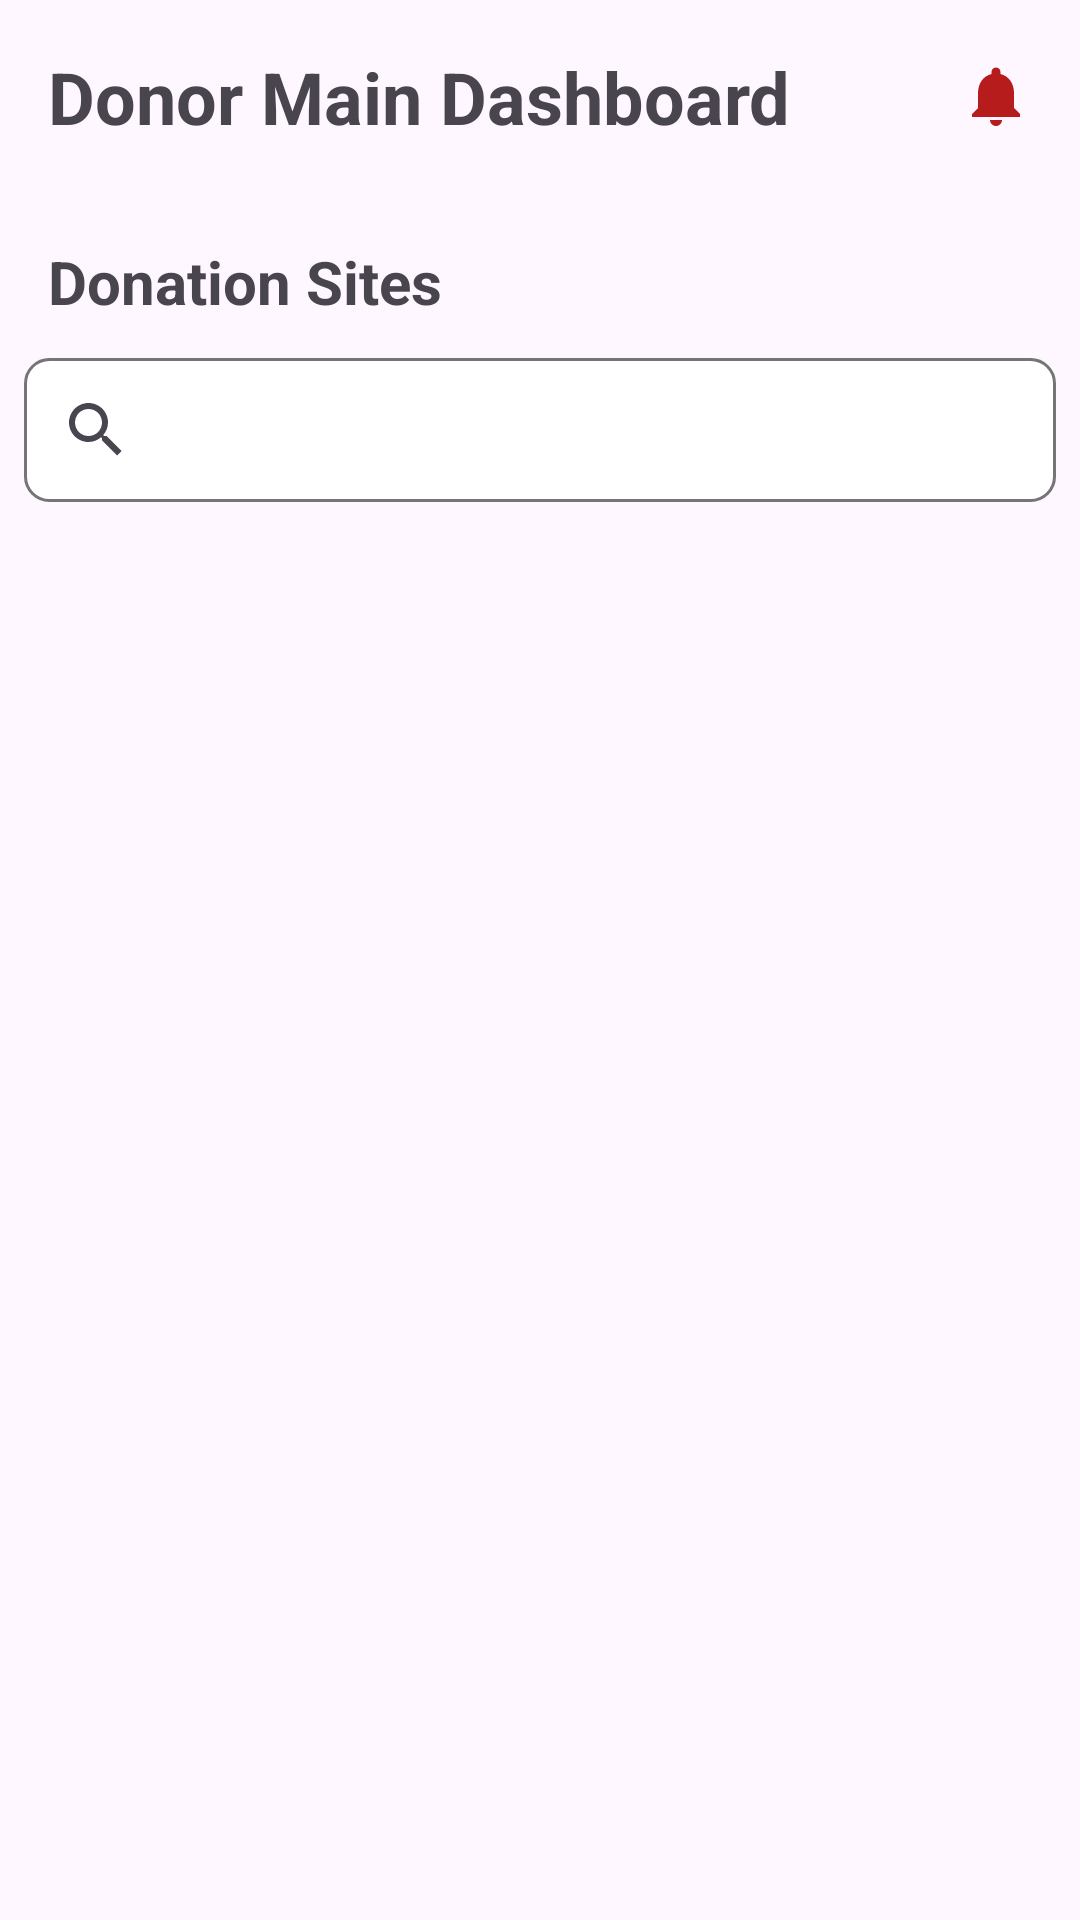

Screen size 1080×1920. Icon name, then its box in pixels as [left=x1, top=y1, right=x2, bottom=y2]:
Updating notifications: [left=972, top=67, right=1020, bottom=126]
